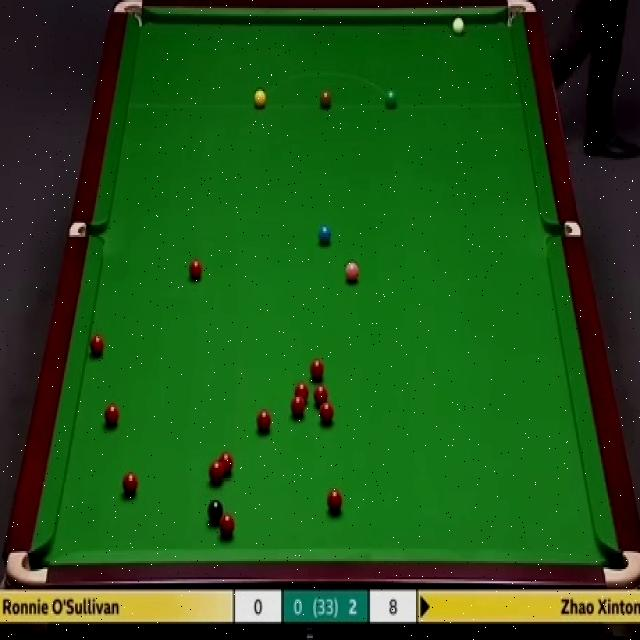black-ball: (208, 498, 225, 522)
blue-ball: (318, 223, 332, 248)
brown-ball: (319, 89, 332, 108)
green-ball: (384, 90, 396, 108)
pink-ball: (345, 263, 360, 285)
red-ball: (325, 486, 344, 516), (88, 333, 107, 360), (255, 407, 272, 435), (119, 471, 138, 496), (293, 379, 311, 405), (101, 401, 119, 427), (308, 358, 327, 381), (209, 459, 225, 484), (316, 387, 332, 411), (220, 452, 236, 476), (220, 514, 234, 540), (290, 396, 306, 418), (320, 401, 333, 422), (188, 261, 203, 279)
white-ball: (452, 16, 466, 38)
yellow-ball: (253, 89, 267, 108)
